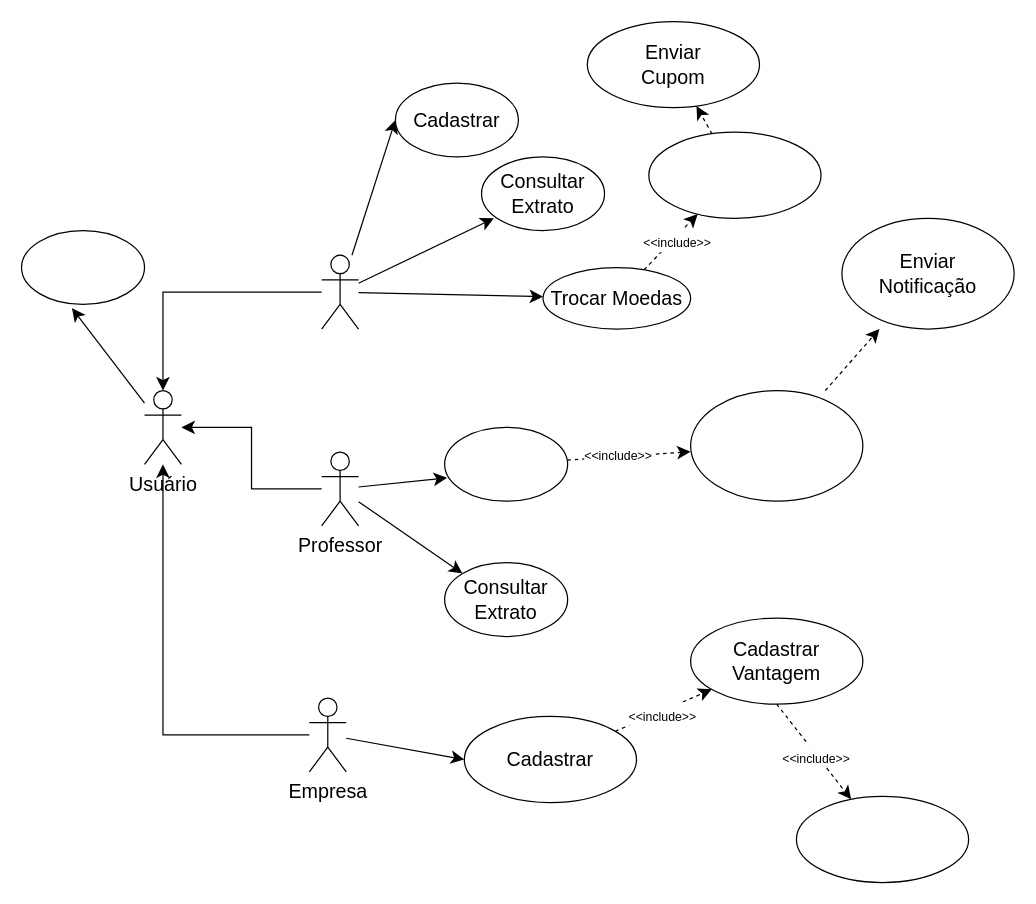
The diagram is 1036 pixels wide and 904 high, and some of its shapes have lost their labels. The shapes that lost their labels are listed below. From the top down, each one's centre as x and y in pixels, then its label:
At (734,174): "Selecionar Vantagem".
At (82,266): "Efetuar Login".
At (339,291): "Aluno".
At (505,463): "Enviar Moedas".
At (776,445): "Mensagem de Justificativa".
At (882,839): "Detalhar Vantagem".
